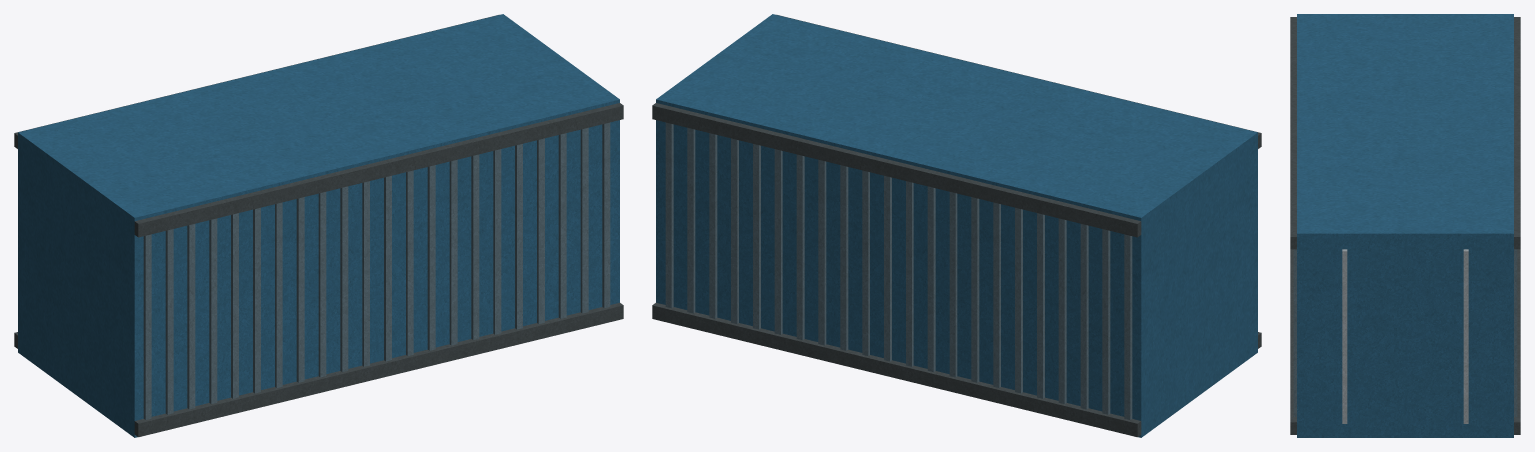
The model's file is shipping_container.glb.
3 renders of one model, left to right at view 1: azimuth 30°, elevation 25°; view 2: azimuth 150°, elevation 25°; view 3: azimuth 270°, elevation 25°, orthographic. The views are drawn at different scales.
Parts seen in each view (by area): view 1: shipping_container; view 2: shipping_container; view 3: shipping_container.
Part boxes in pixels (bbox=[...]): shipping_container: bbox=[14, 14, 623, 437]; shipping_container: bbox=[652, 14, 1261, 437]; shipping_container: bbox=[1290, 14, 1520, 437].
Size of the model in its own units: 6.05 by 2.6 by 2.66.
